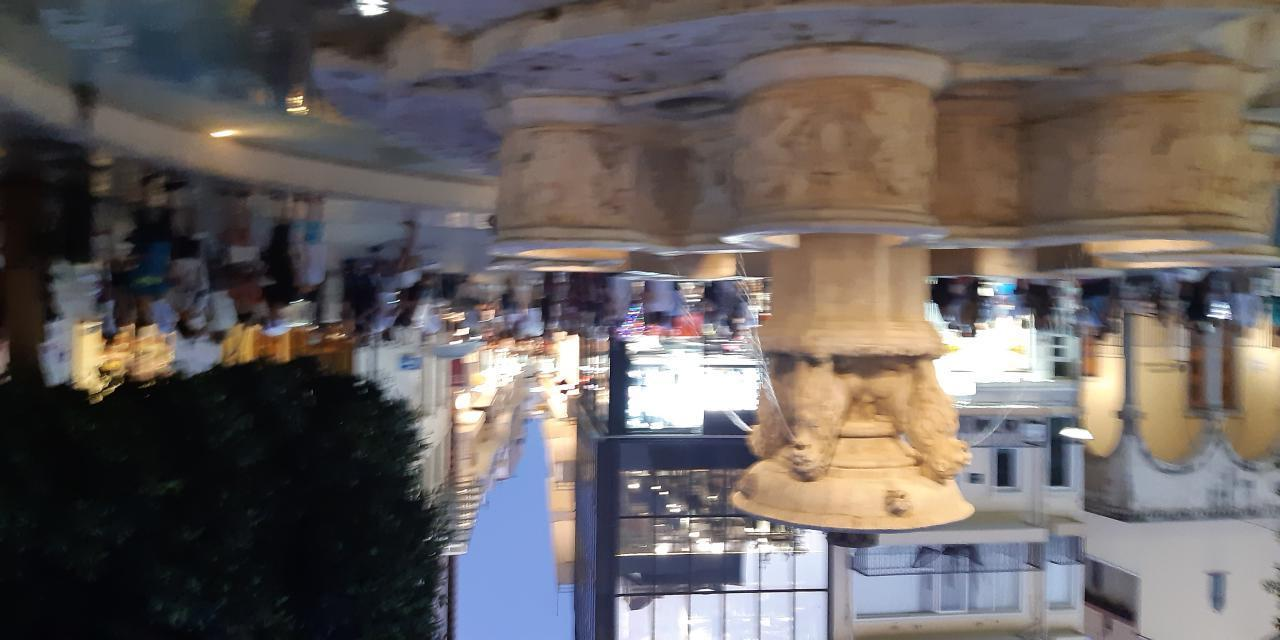Liontaria: (487, 40, 1279, 540)
